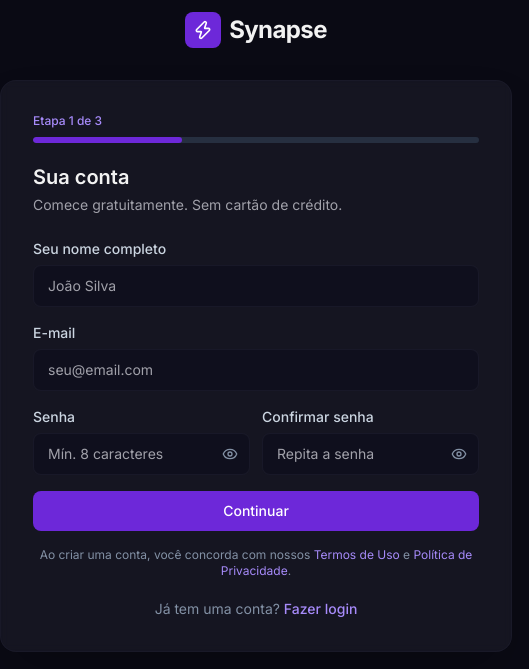
Test: Cadastro em 3 etapas › o botão Voltar retorna para a etapa anterior sem perder os dados
Type "Maria Souza" into the field with placeholder "João Silva". click: coordinates (256, 286)
box: [33,265,479,307]
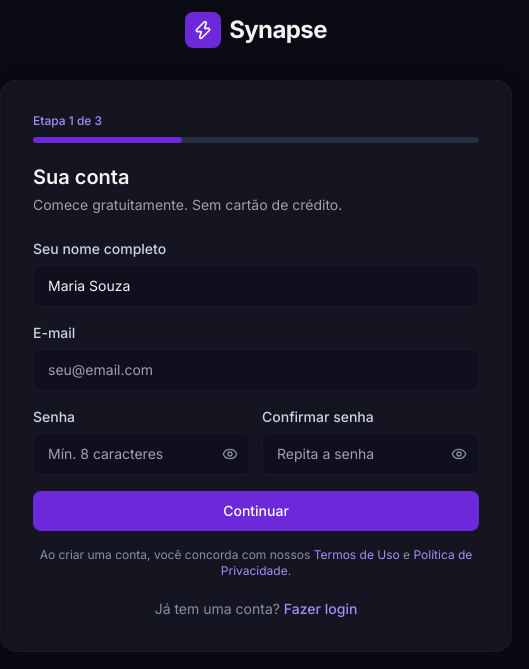
Type "maria@padaria.com" into the field with placeholder "seu@email.com". click: coordinates (256, 370)
box: [33,349,479,391]
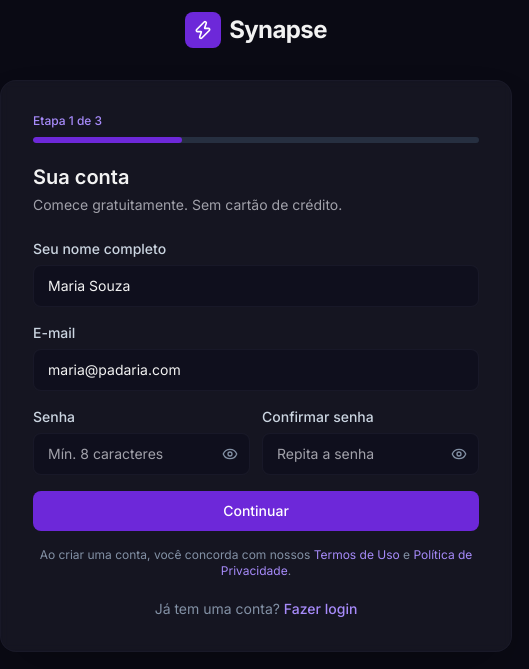
Type "Senha1234" into the password field with placeholder "Mín. 8 caracteres". click: coordinates (142, 454)
box: [33,433,250,475]
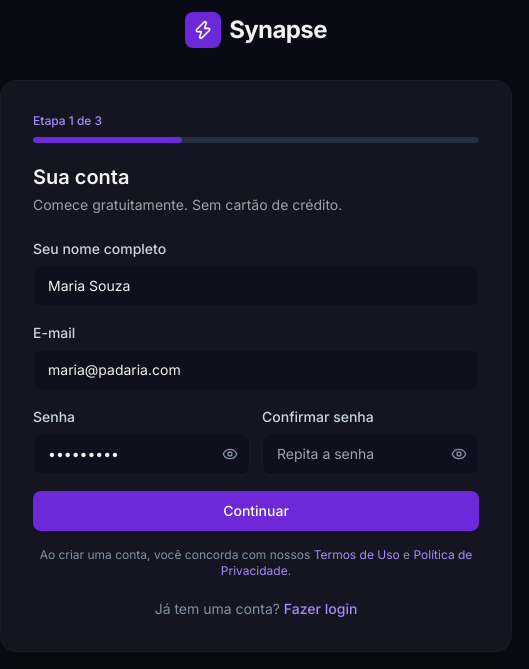
Type "Senha1234" into the password field with placeholder "Repita a senha". click: coordinates (370, 454)
box: [262,433,479,475]
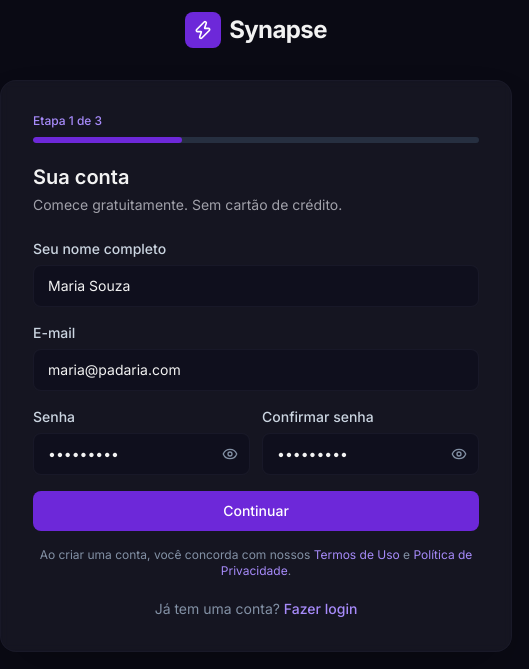
Click the button "Continuar". click: coordinates (256, 511)
box: [33,491,479,531]
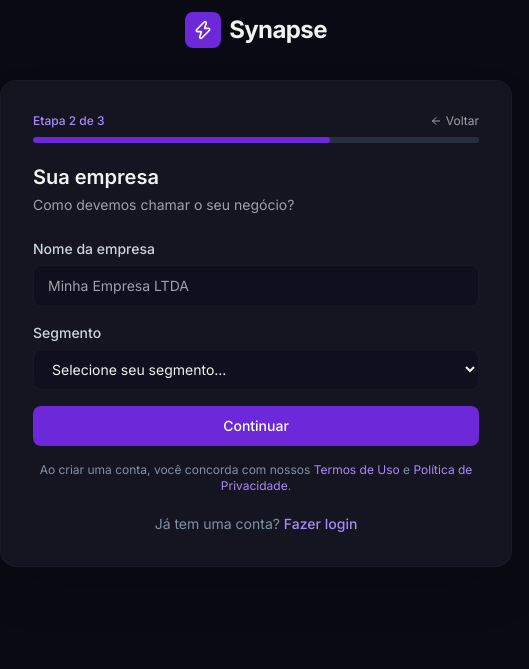
Check: the text "Etapa 2 de 3" is shown, box [33,113,105,129]
Click the button "Voltar". click: coordinates (454, 121)
box: [430,113,479,129]
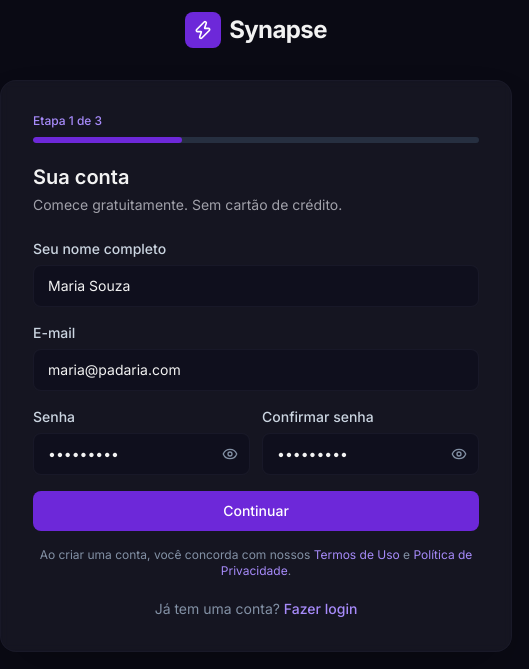
Check: the text "Etapa 1 de 3" is shown, box [33,113,102,129]
